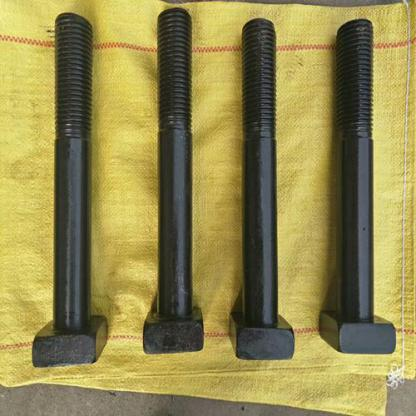FOD: (30, 12, 112, 370), (318, 15, 398, 358), (225, 16, 297, 362), (139, 5, 207, 356)
